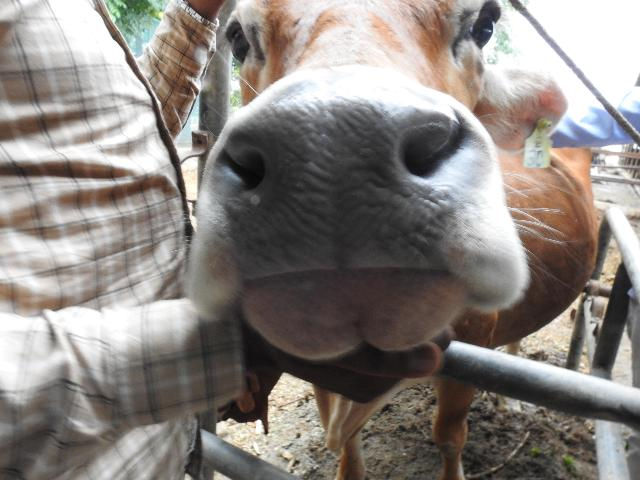Muzzle: (265, 105, 425, 269)
